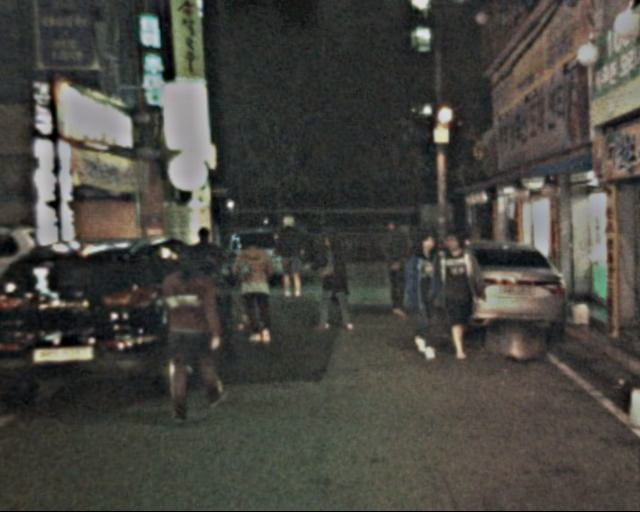person: (155, 243, 224, 416), (429, 230, 484, 352), (403, 235, 453, 358), (230, 231, 281, 347), (182, 228, 229, 340), (313, 227, 356, 334), (376, 219, 420, 318), (267, 210, 308, 306)
